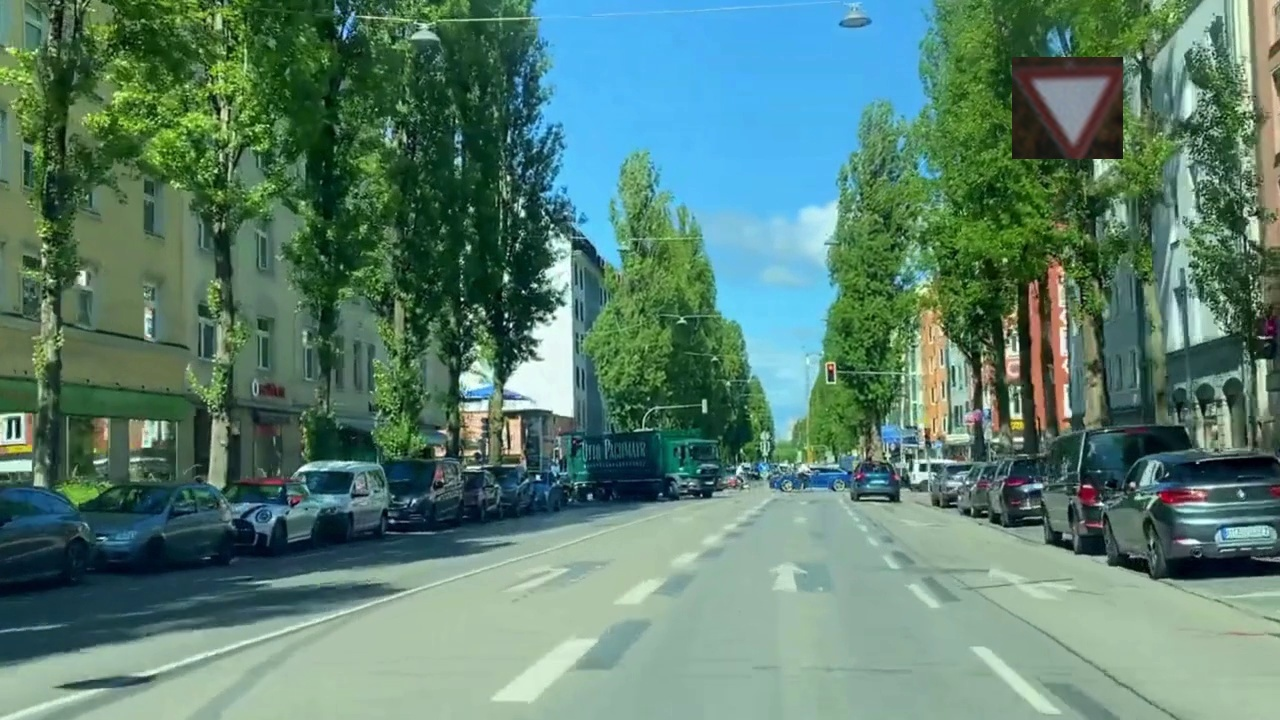Yield: (1012, 57, 1123, 159)
